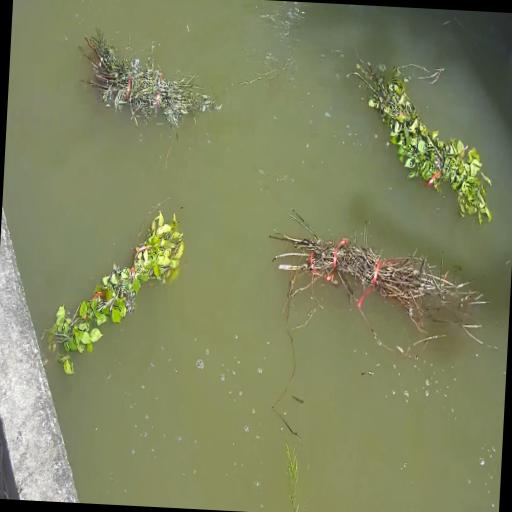twig: (270, 210, 486, 332), (351, 64, 491, 223), (50, 212, 184, 352), (88, 37, 212, 125)
